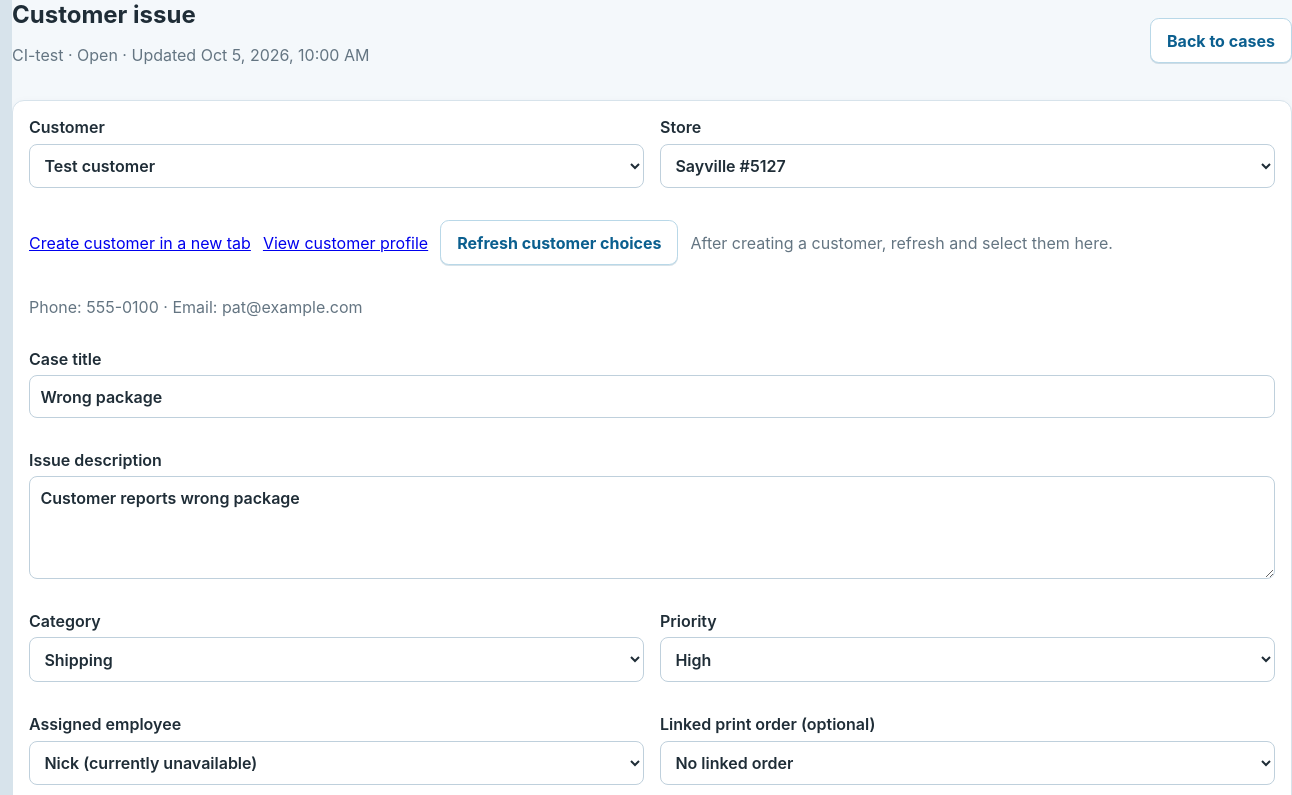
Test case: preserves unrelated unsaved case text when changing status
Replace the text in the field labelled "Case title" with "My draft title" at (652, 396), box [29, 375, 1275, 418]
(page scrolled)
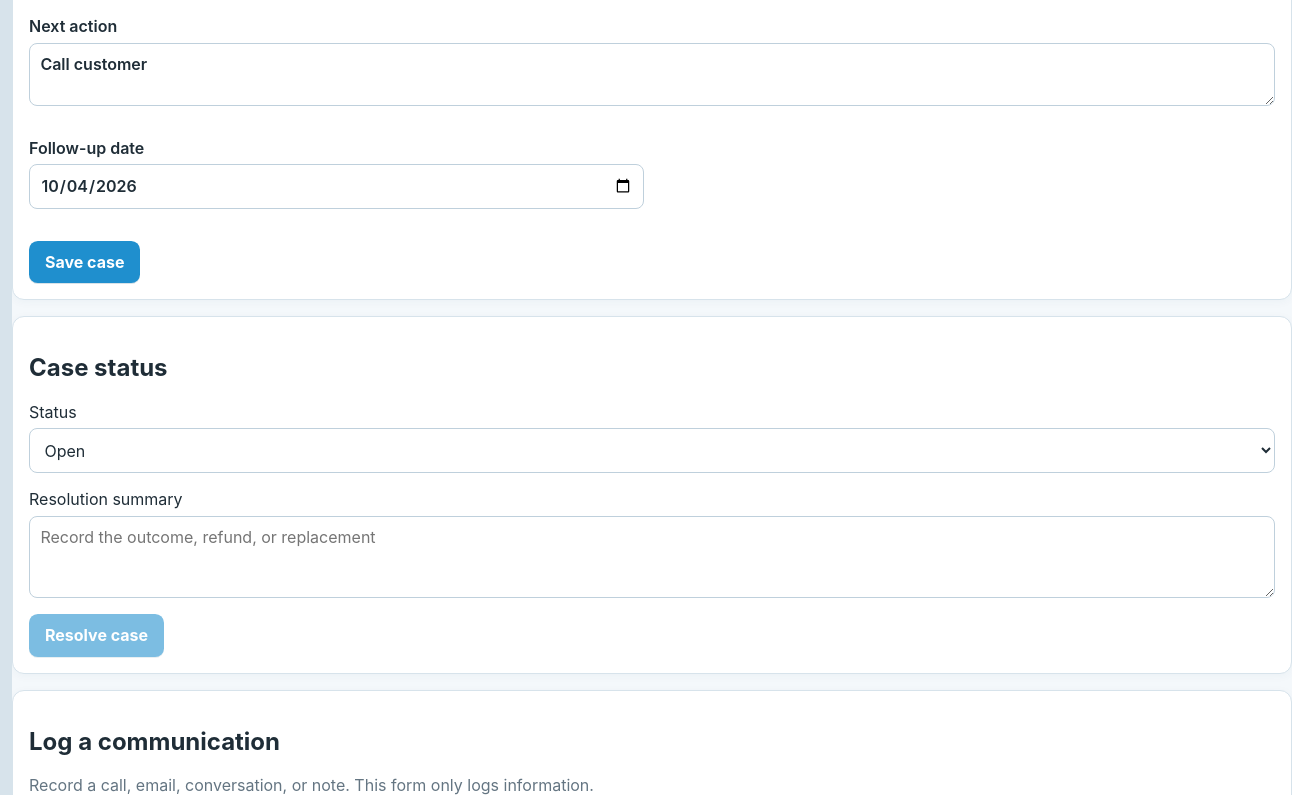
Select "In Progress" in the dropdown labelled "Status" at (652, 451), box [29, 428, 1275, 473]
(page scrolled)
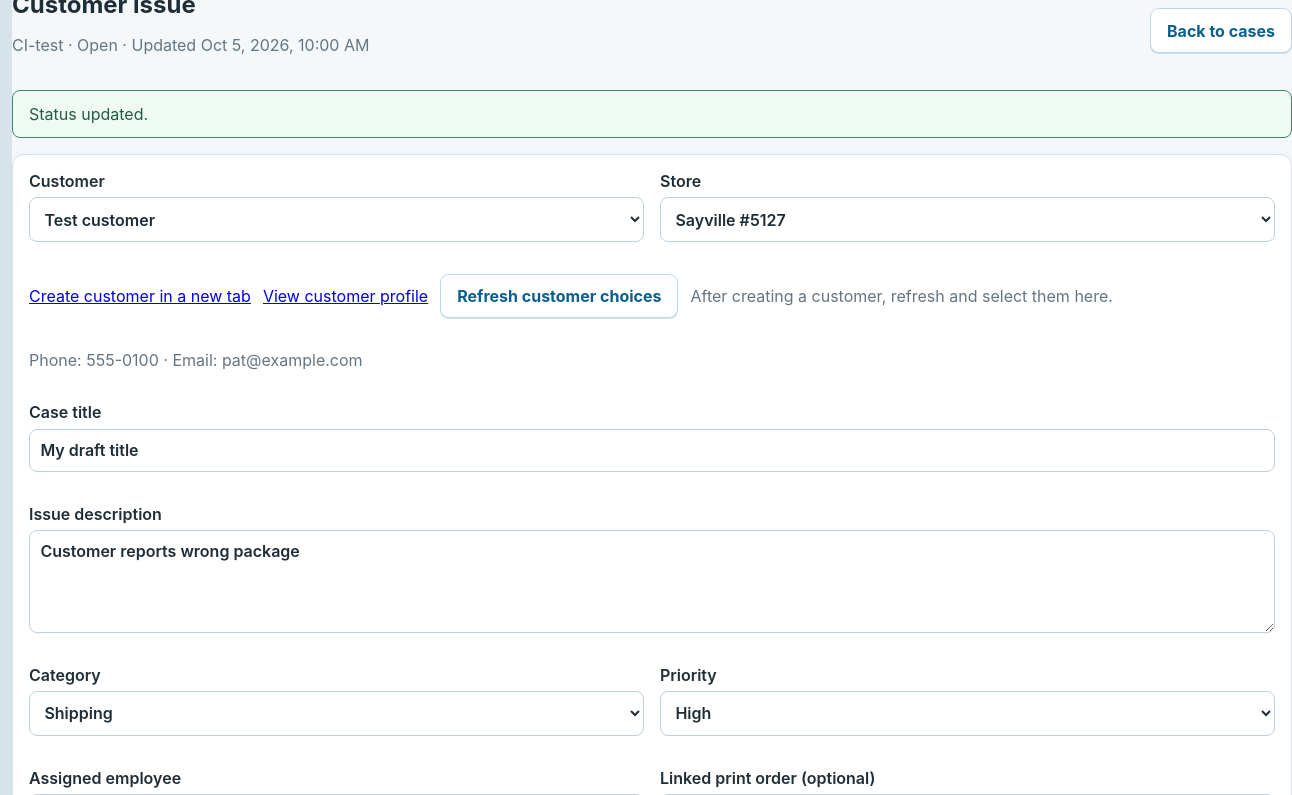
Expected: the text "Status updated." is shown, [12, 90, 1291, 138]
